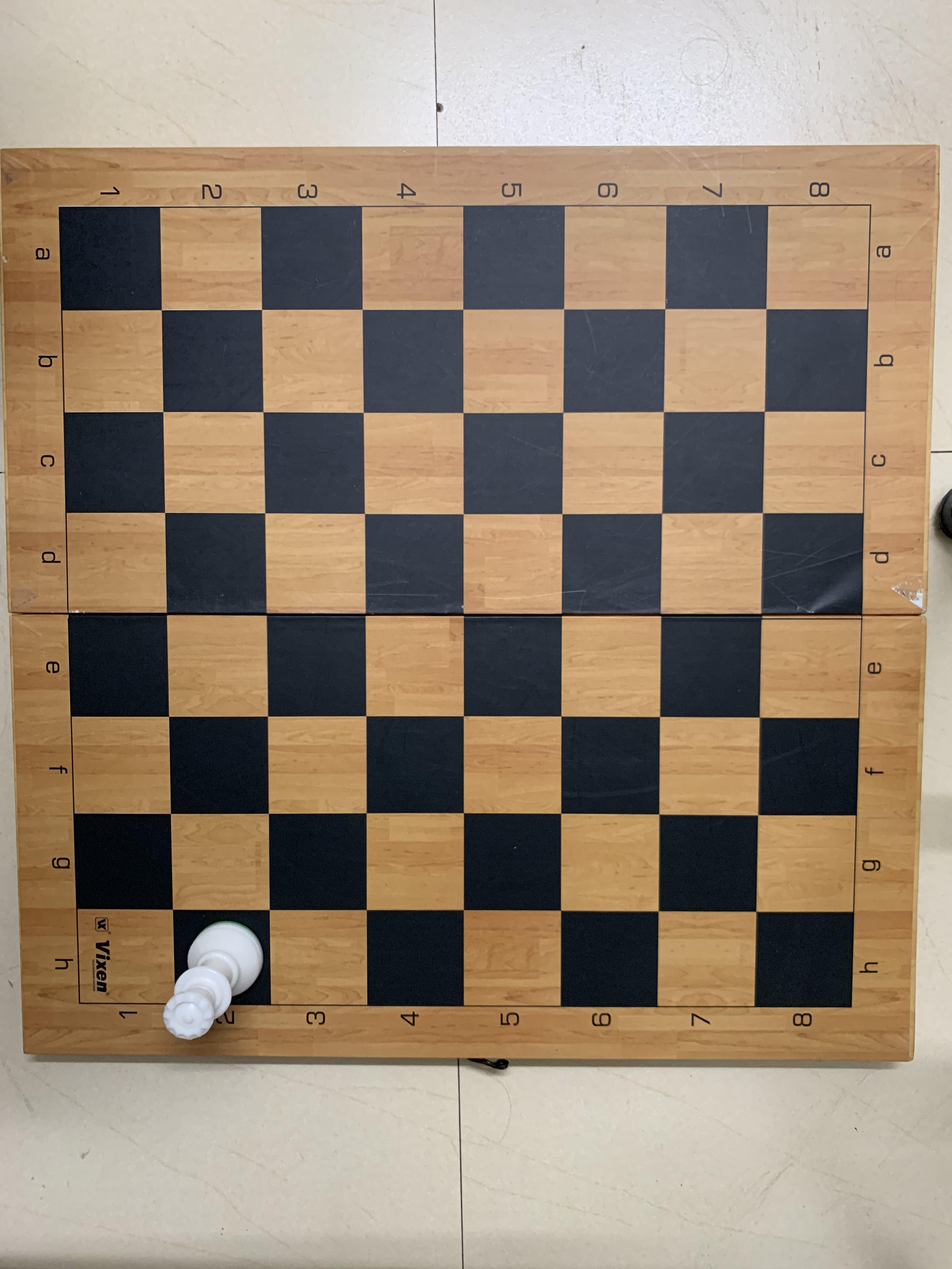white_queen: (143, 911, 277, 1050)
